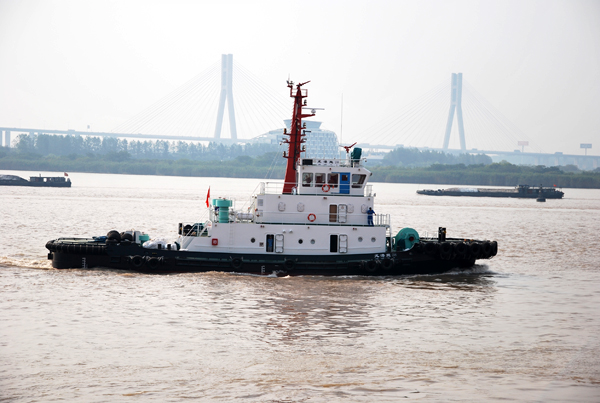Cargoship: (415, 181, 574, 199)
otherboat: (47, 83, 516, 278)
